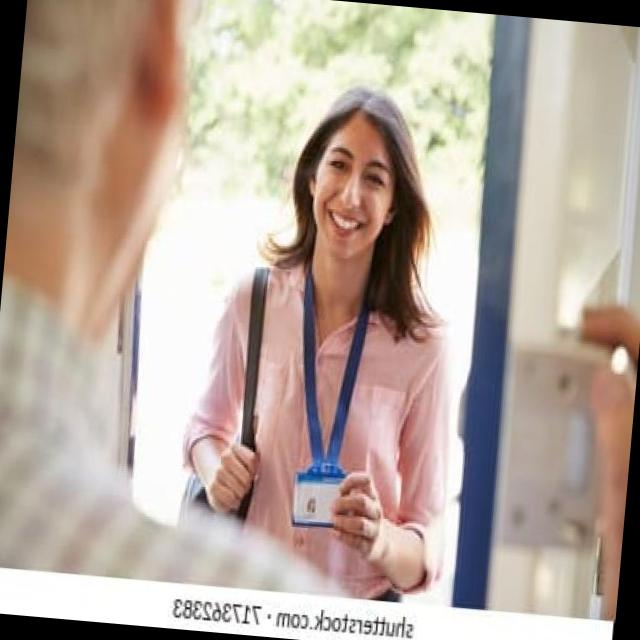id_card: (286, 260, 372, 527)
